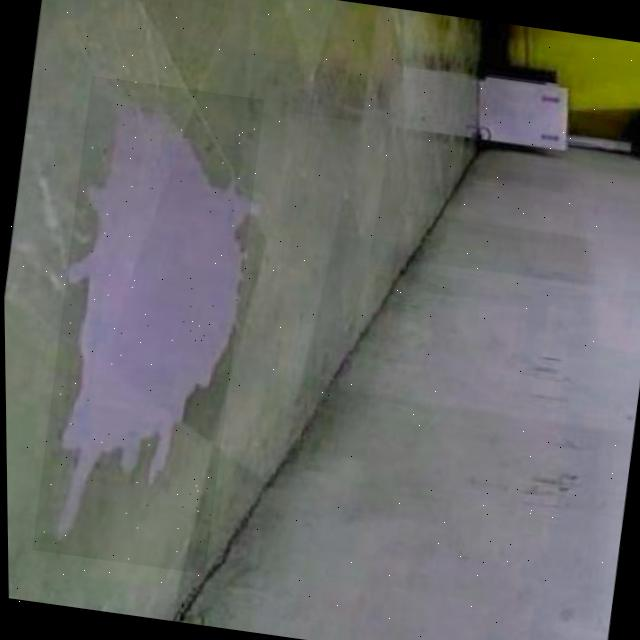spillage: (50, 79, 247, 553)
